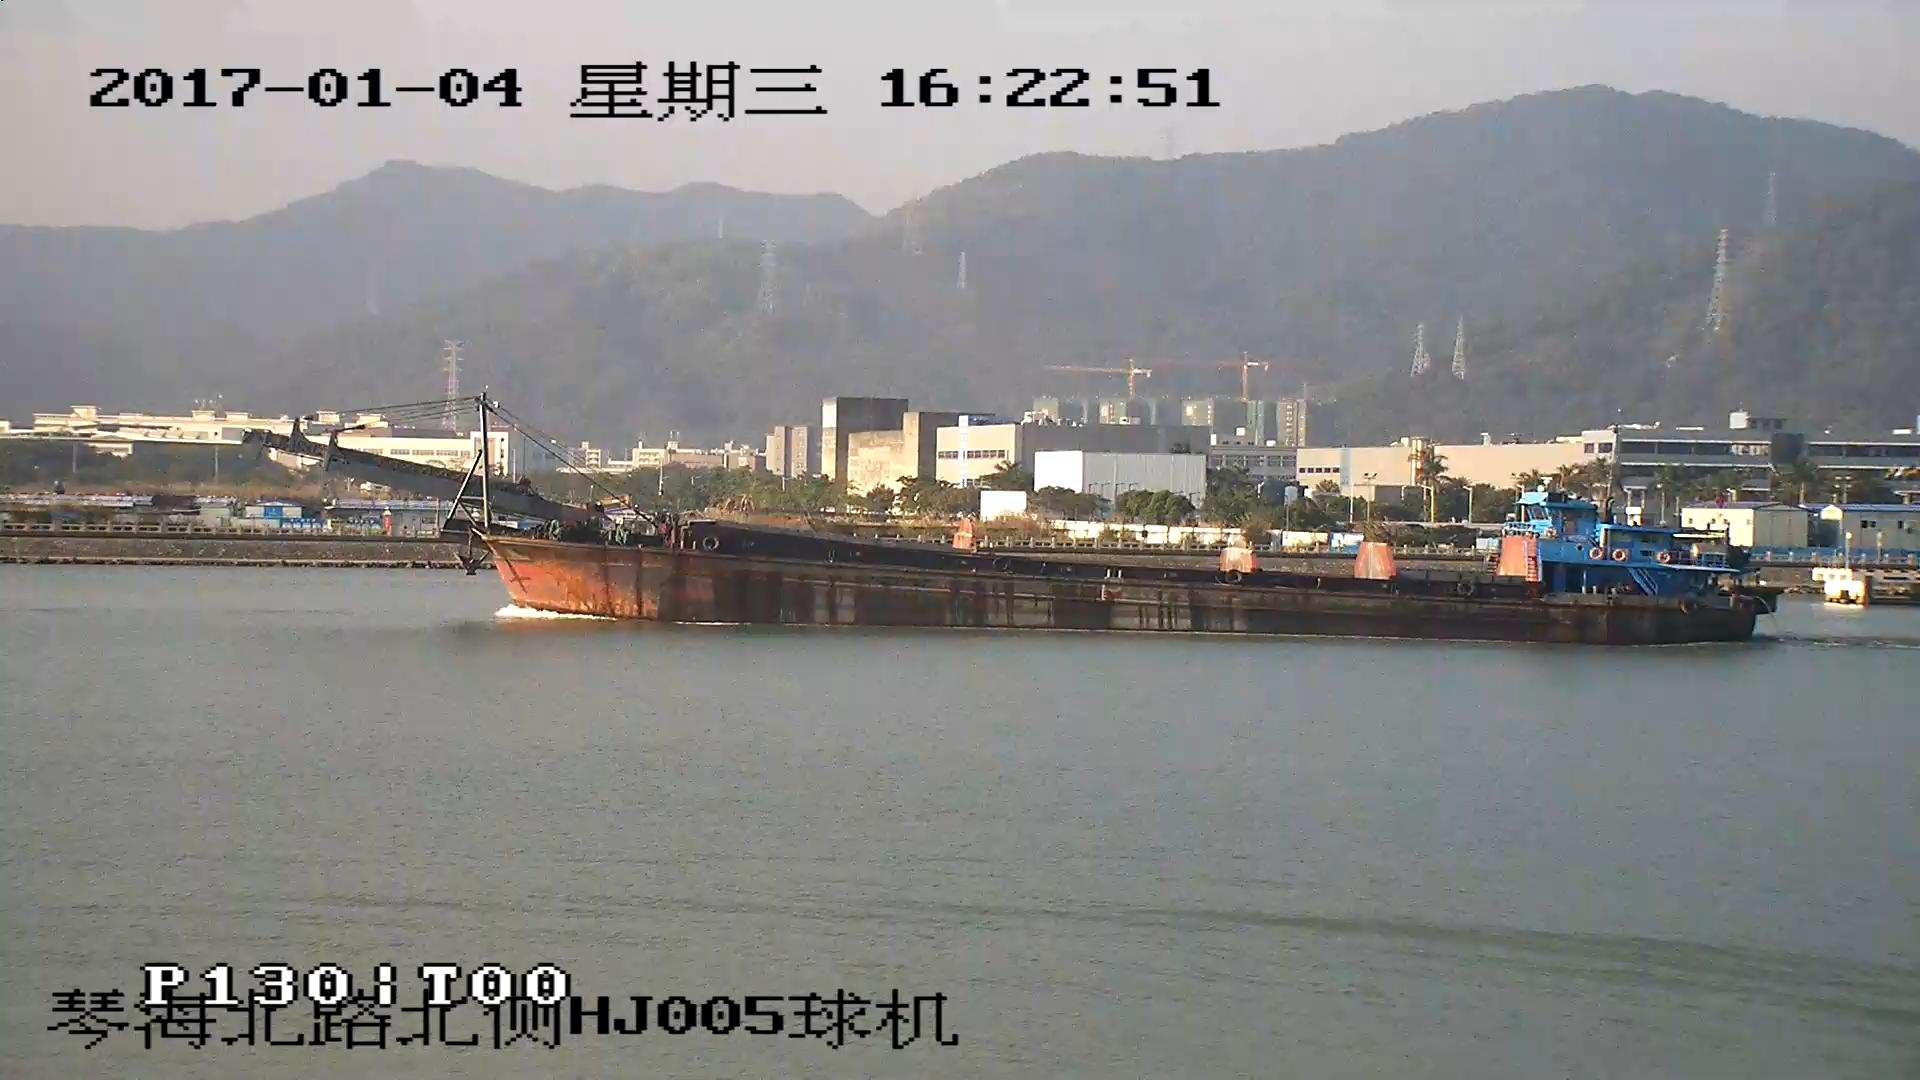bulk cargo carrier: (254, 393, 1767, 642)
